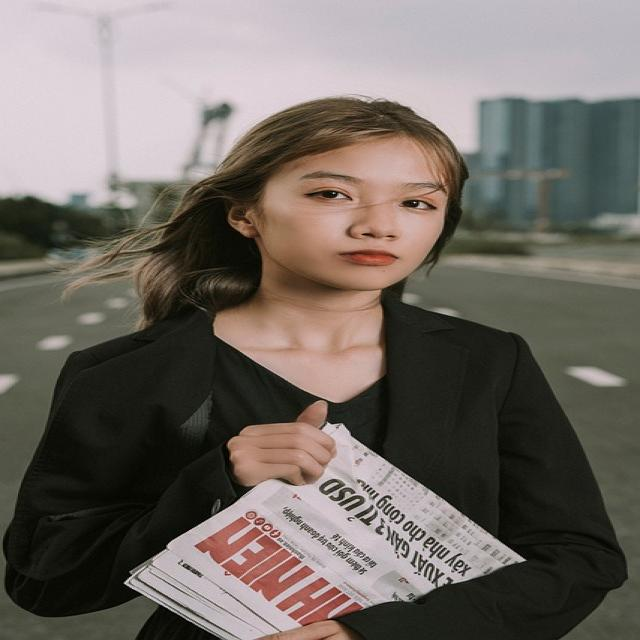Edited images: (3, 77, 608, 640)
